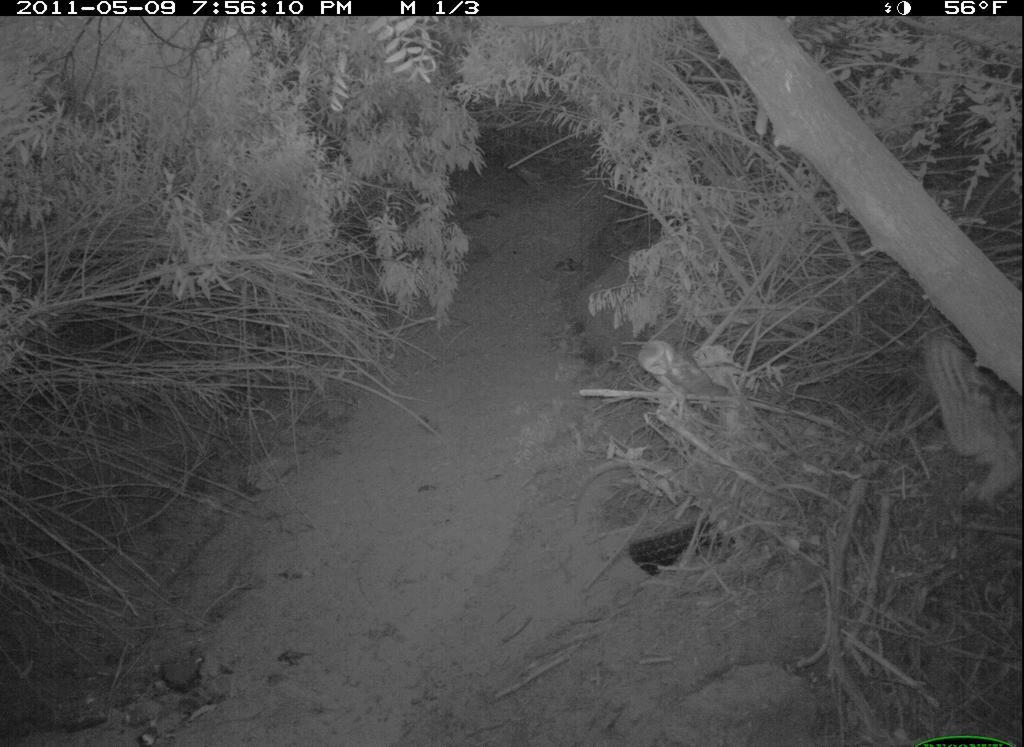bird: (635, 337, 728, 419)
